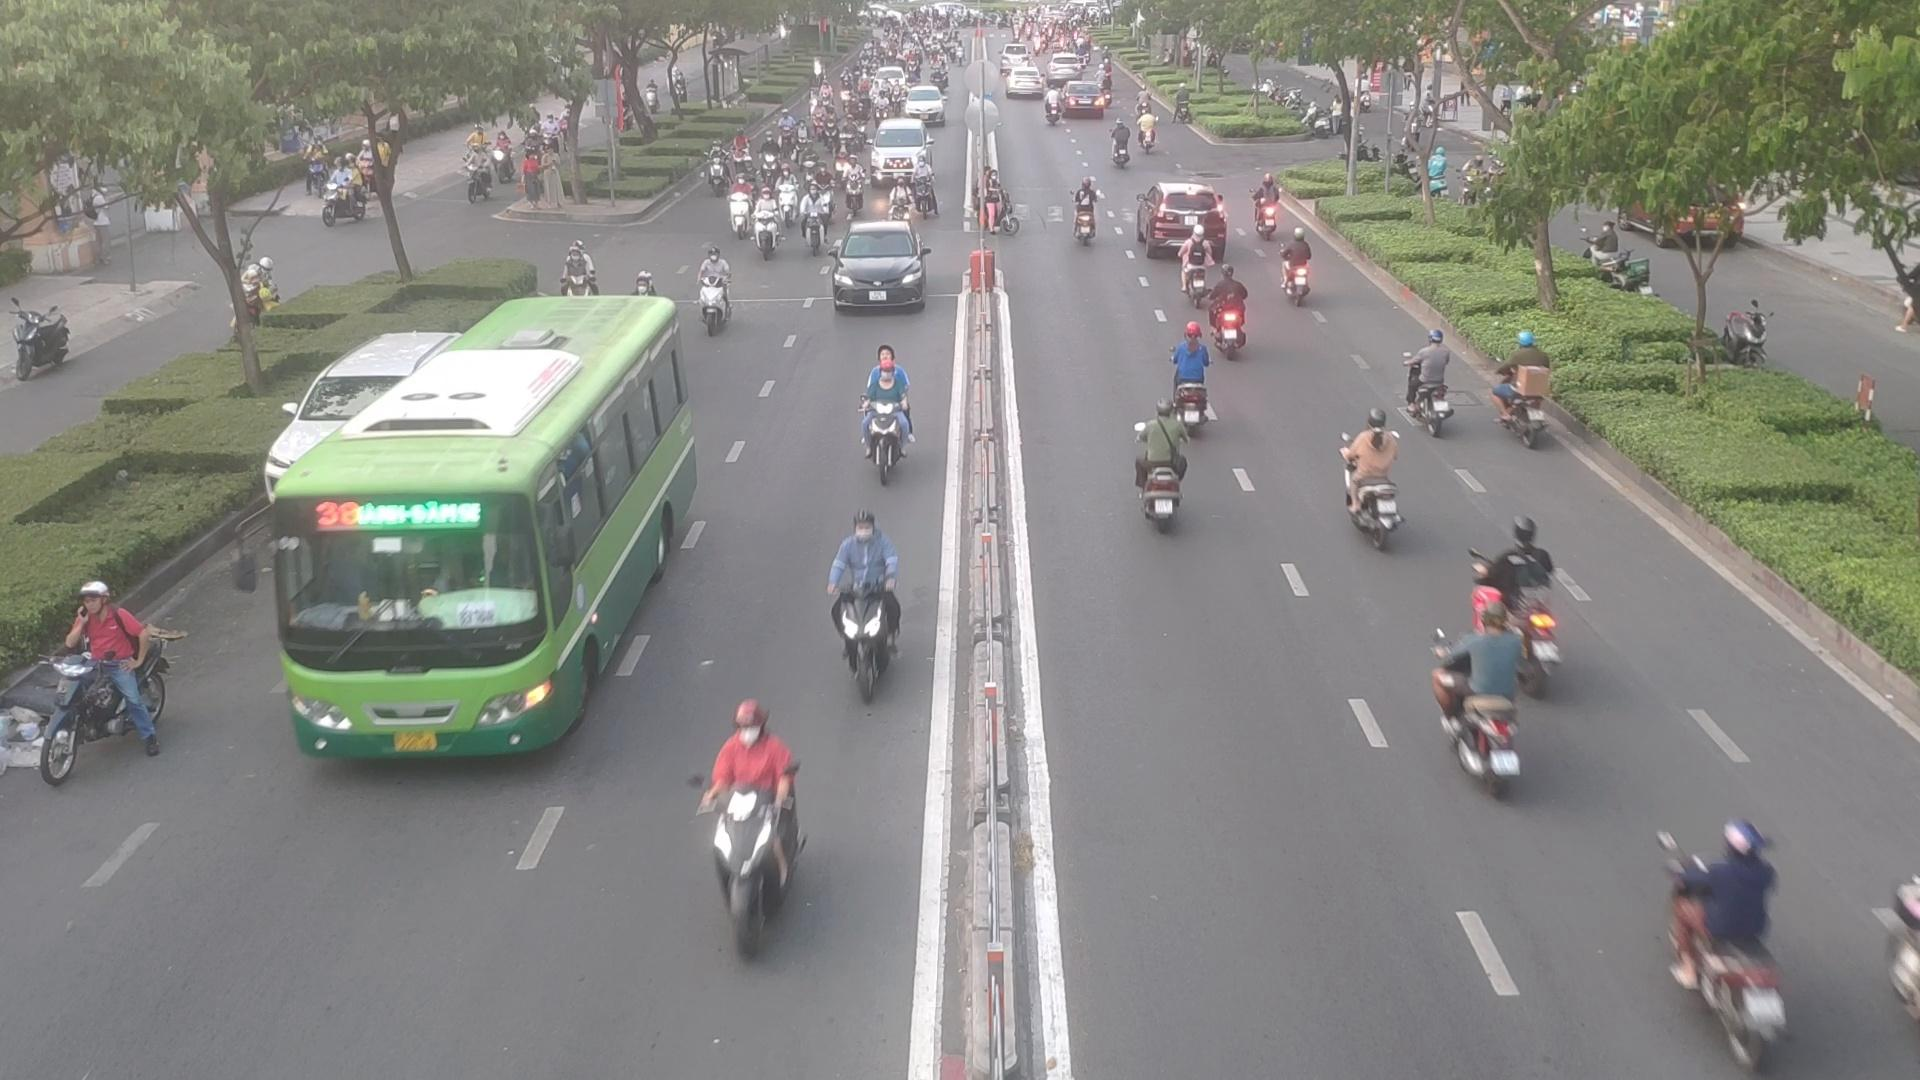bus: (272, 299, 679, 761)
car: (825, 223, 928, 313), (1142, 190, 1226, 262)
motorbike: (1654, 808, 1804, 1062), (683, 713, 807, 944), (29, 588, 170, 753), (1429, 615, 1532, 789), (823, 518, 899, 651), (1466, 522, 1571, 618), (1333, 413, 1406, 542), (1121, 404, 1191, 526), (849, 357, 918, 475), (1404, 334, 1476, 434), (1167, 320, 1221, 430), (1208, 266, 1265, 357), (692, 251, 740, 334), (1276, 237, 1317, 309), (1065, 181, 1104, 249), (870, 149, 909, 189), (1102, 124, 1133, 167)
